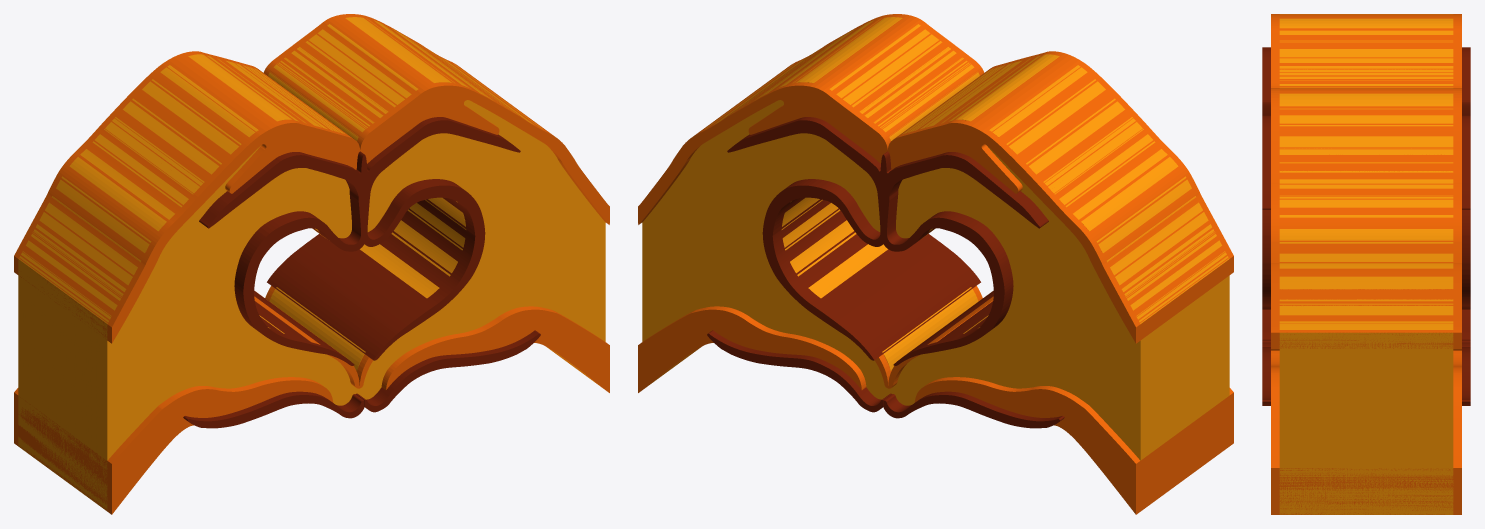
Rendered from U+1FAF6.obj.
3 renders of one model, left to right at view 1: azimuth 30°, elevation 25°; view 2: azimuth 150°, elevation 25°; view 3: azimuth 270°, elevation 25°, orthographic. The views are drawn at different scales.
Parts seen in each view (by area): view 1: U+1FAF6_layer00_obj00, U+1FAF6_layer01_obj04, U+1FAF6_layer02_obj00, U+1FAF6_layer01_obj05, U+1FAF6_layer01_obj00, U+1FAF6_layer02_obj02, U+1FAF6_layer01_obj03, U+1FAF6_layer02_obj01, U+1FAF6_layer02_obj03; view 2: U+1FAF6_layer00_obj00, U+1FAF6_layer01_obj04, U+1FAF6_layer02_obj00, U+1FAF6_layer01_obj05, U+1FAF6_layer01_obj00, U+1FAF6_layer02_obj02, U+1FAF6_layer01_obj03, U+1FAF6_layer02_obj01, U+1FAF6_layer02_obj03; view 3: U+1FAF6_layer00_obj00, U+1FAF6_layer01_obj05, U+1FAF6_layer01_obj04, U+1FAF6_layer01_obj03, U+1FAF6_layer02_obj00, U+1FAF6_layer02_obj01, U+1FAF6_layer02_obj02, U+1FAF6_layer02_obj03.
Boxes of the visible parts, x1=… form: U+1FAF6_layer00_obj00: x1=18, y1=17, x2=605, y2=511; U+1FAF6_layer01_obj04: x1=14, y1=51, x2=364, y2=343; U+1FAF6_layer02_obj00: x1=267, y1=117, x2=520, y2=360; U+1FAF6_layer01_obj05: x1=258, y1=14, x2=609, y2=224; U+1FAF6_layer01_obj00: x1=14, y1=377, x2=333, y2=514; U+1FAF6_layer02_obj02: x1=199, y1=151, x2=364, y2=365; U+1FAF6_layer01_obj03: x1=381, y1=306, x2=609, y2=392; U+1FAF6_layer02_obj01: x1=356, y1=330, x2=540, y2=412; U+1FAF6_layer02_obj03: x1=183, y1=391, x2=364, y2=428; U+1FAF6_layer00_obj00: x1=642, y1=17, x2=1229, y2=460; U+1FAF6_layer01_obj04: x1=883, y1=51, x2=1233, y2=343; U+1FAF6_layer02_obj00: x1=727, y1=117, x2=980, y2=360; U+1FAF6_layer01_obj05: x1=638, y1=14, x2=989, y2=224; U+1FAF6_layer01_obj00: x1=914, y1=377, x2=1233, y2=514; U+1FAF6_layer02_obj02: x1=883, y1=151, x2=1048, y2=365; U+1FAF6_layer01_obj03: x1=638, y1=306, x2=866, y2=392; U+1FAF6_layer02_obj01: x1=707, y1=330, x2=891, y2=412; U+1FAF6_layer02_obj03: x1=883, y1=391, x2=1064, y2=428; U+1FAF6_layer00_obj00: x1=1279, y1=14, x2=1453, y2=514; U+1FAF6_layer01_obj05: x1=1271, y1=86, x2=1461, y2=350; U+1FAF6_layer01_obj04: x1=1271, y1=14, x2=1461, y2=85; U+1FAF6_layer01_obj03: x1=1271, y1=350, x2=1461, y2=514; U+1FAF6_layer02_obj00: x1=1262, y1=101, x2=1470, y2=309; U+1FAF6_layer02_obj01: x1=1262, y1=340, x2=1470, y2=405; U+1FAF6_layer02_obj02: x1=1262, y1=47, x2=1470, y2=100; U+1FAF6_layer02_obj03: x1=1262, y1=309, x2=1470, y2=340.
Bounding box in the file's own units: 0.3232 × 0.2164 × 0.12.
